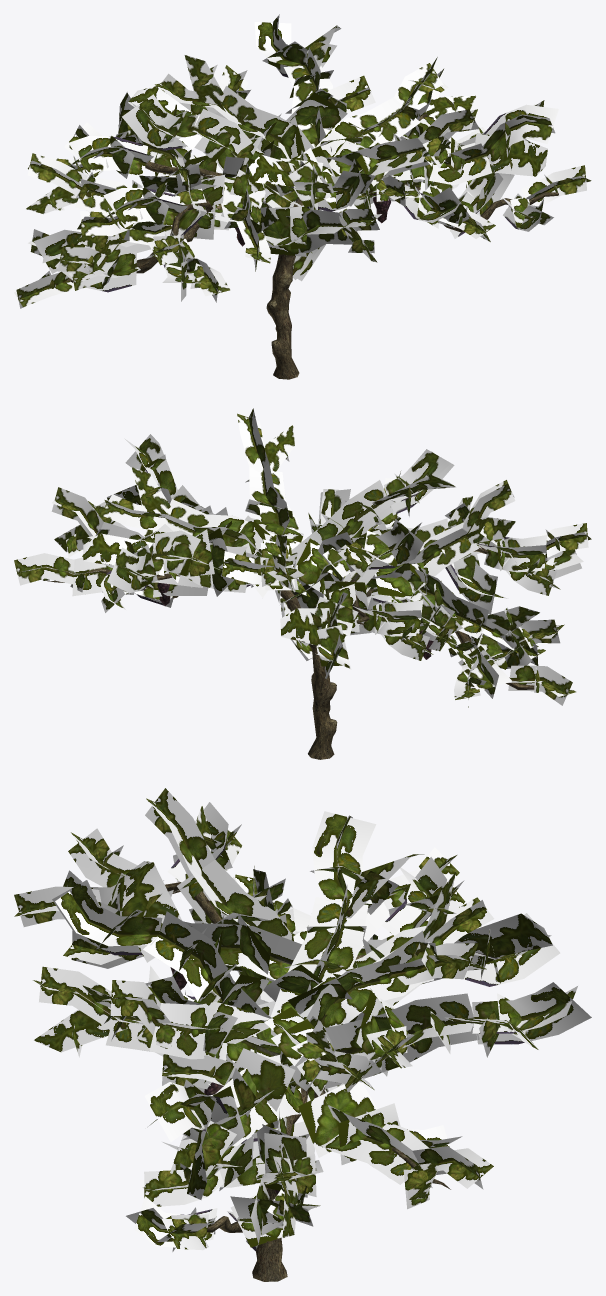
The model's file is Tree2.fbx.
3 renders of one model, top to bottom at view 1: azimuth 30°, elevation 25°; view 2: azimuth 150°, elevation 25°; view 3: azimuth 270°, elevation 25°, orthographic. The views are drawn at different scales.
Parts seen in each view (by area): view 1: LV_Campagna_Tree_GV01_PM_LOY; view 2: LV_Campagna_Tree_GV01_PM_LOY; view 3: LV_Campagna_Tree_GV01_PM_LOY.
Boxes of the visible parts, x1,y1,x2,y2 form: LV_Campagna_Tree_GV01_PM_LOY: [14, 14, 591, 379]; LV_Campagna_Tree_GV01_PM_LOY: [14, 408, 591, 759]; LV_Campagna_Tree_GV01_PM_LOY: [14, 788, 591, 1281].
Bounding box in the file's own units: 2.22 × 1.13 × 1.52.
2 materials, 2 textured.
